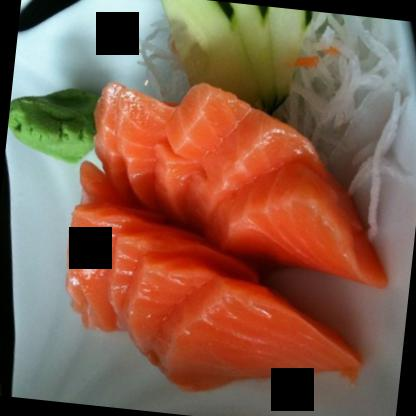salmon: (50, 70, 406, 404)
